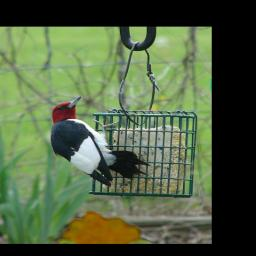Woodpecker: (51, 96, 151, 187)
